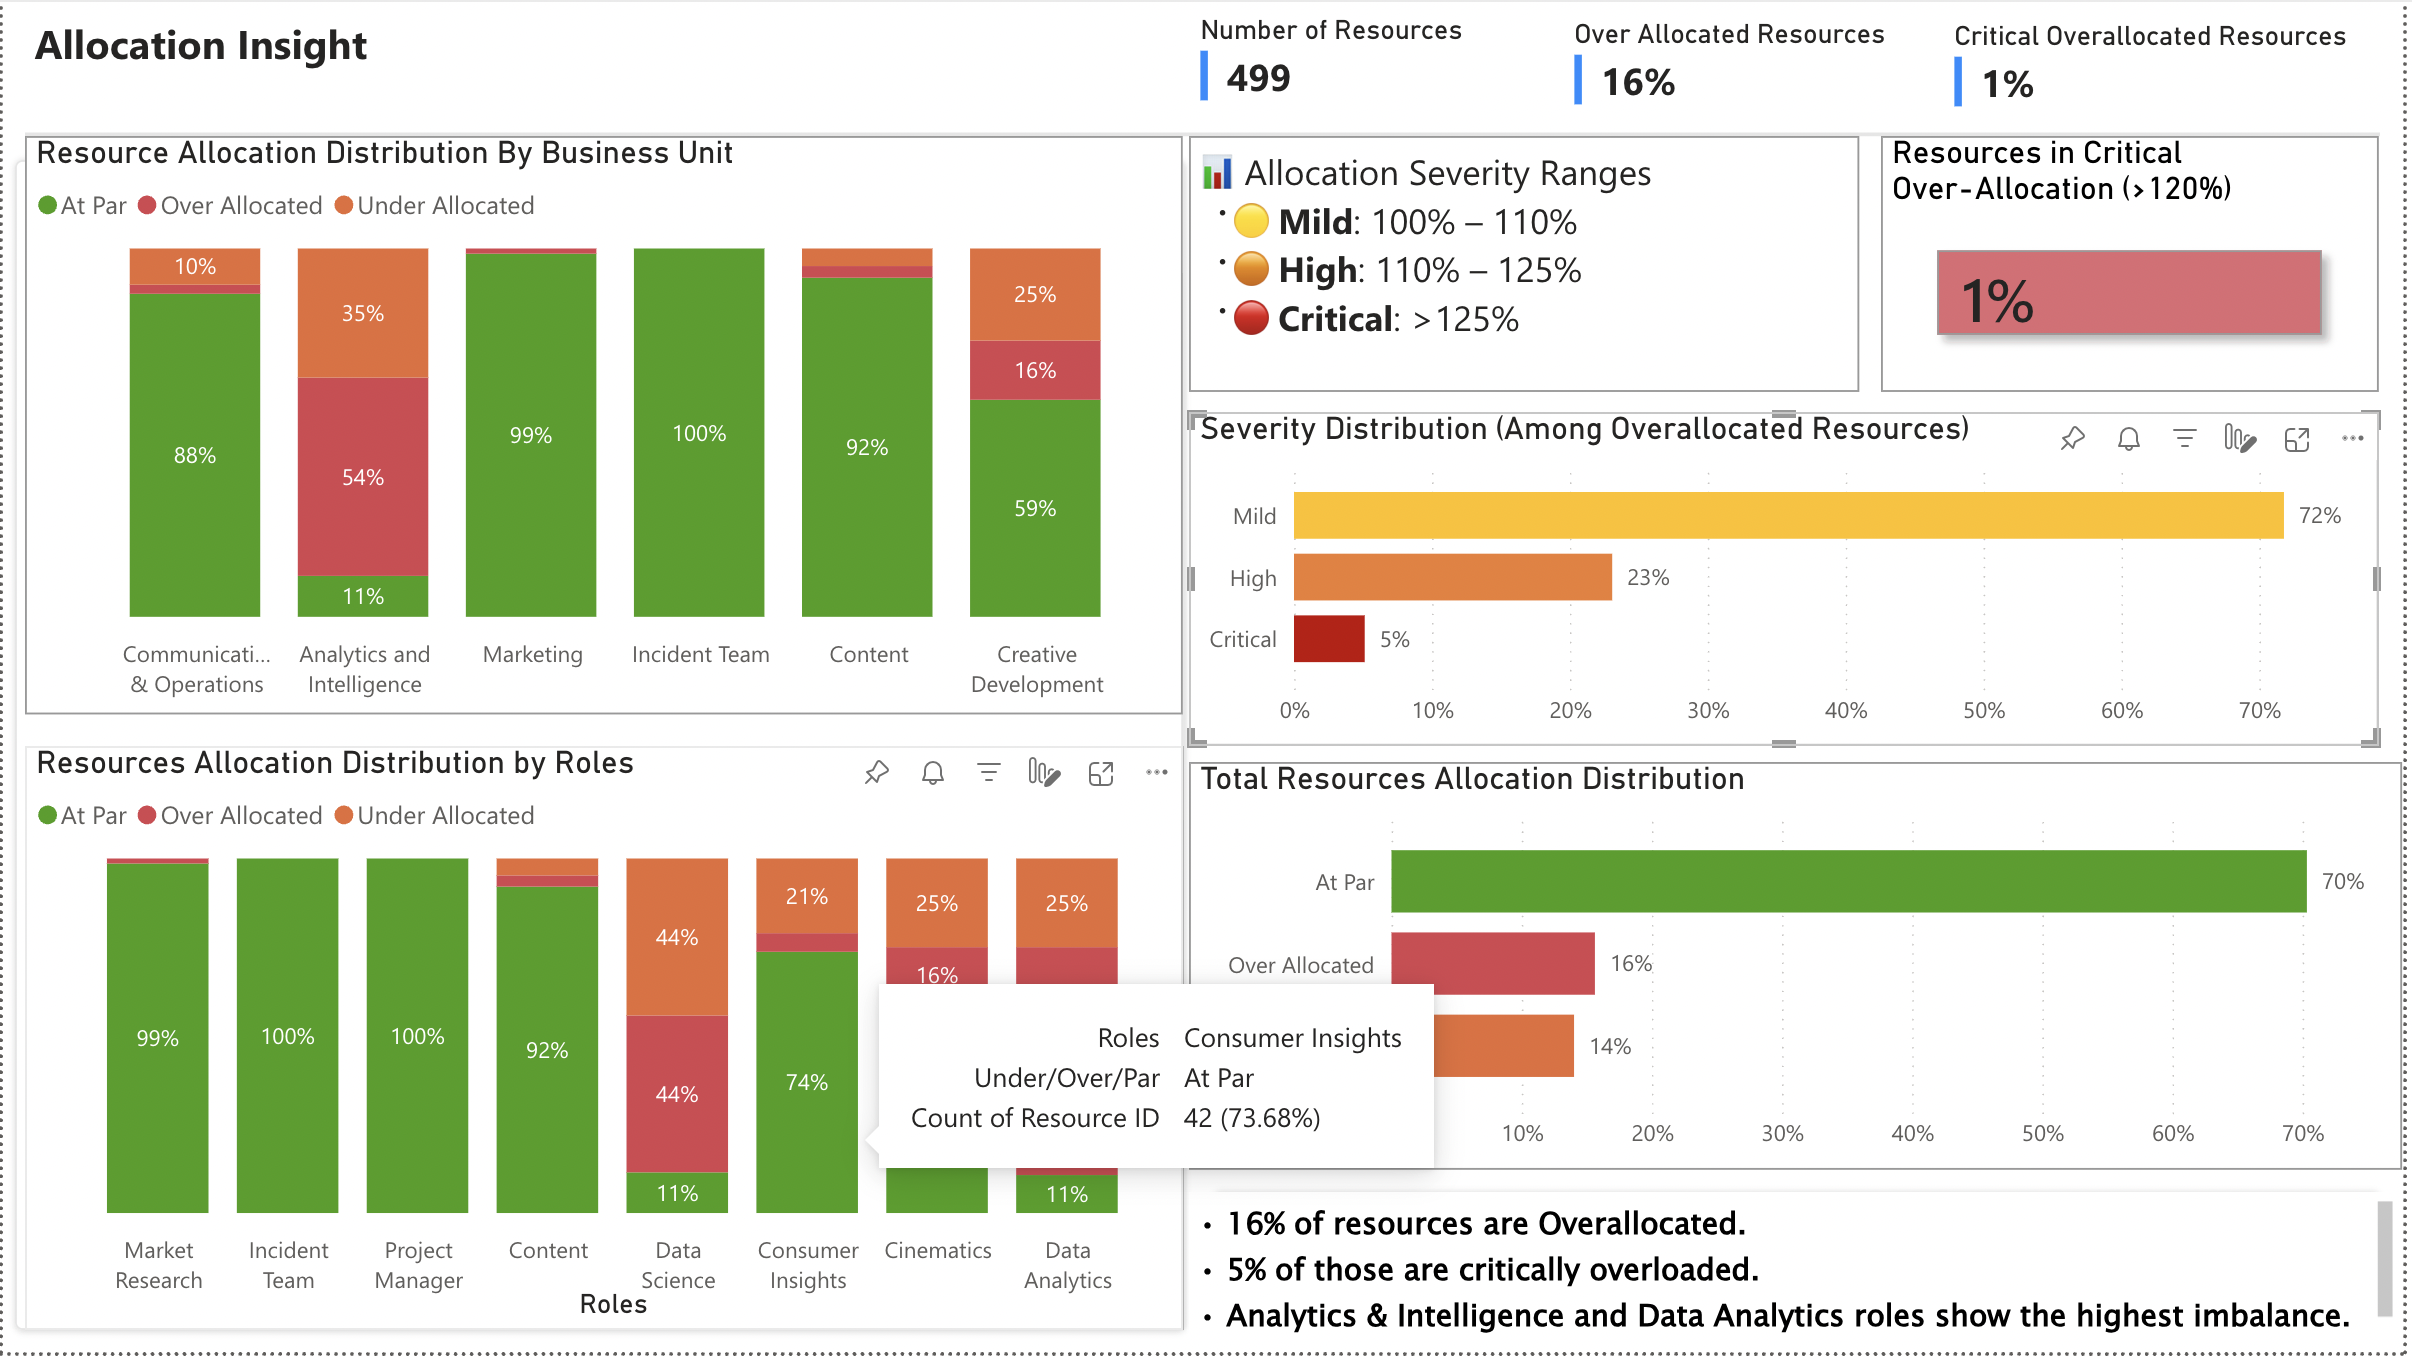

This screenshot's page, from the dashboard's own definition file:
{"tool":"powerbi","page":{"name":"Page 1","canvas":[1280,720],"ordinal":0},"visuals":[{"type":"shape","box":[12,58,1256,26],"z":0},{"type":"shape","box":[12,84,622,624],"z":1000},{"type":"shape","box":[645.7,451.2,597.4,256.8],"z":3000},{"type":"hundredPercentStackedColumnChart","title":"Number of Resources by Roles","fields":{"Category":["Table.Roles"],"Series":["Table.Under/Over/Par"],"Y":["CountNonNull(Table.Resource ID)"]},"box":[20.3,359.7,612.7,348.3],"z":5000},{"type":"clusteredBarChart","title":"Number of Resources Allocated Over / Under/ At Par","fields":{"Category":["Table.Under/Over/Par"],"Y":["Table.Allocation %"]},"box":[654.6,451.2,588.5,245.3],"z":6000},{"type":"clusteredBarChart","title":"Over-Allocation Severity Distribution","fields":{"Category":["Table.Severity"],"Y":["Table.Severity %"]},"box":[640.6,218.6,602.5,222.4],"z":7000},{"type":"hundredPercentStackedColumnChart","title":"Number of Resource By Business Unit","fields":{"Category":["Table.BU"],"Series":["Table.Under/Over/Par"],"Y":["CountNonNull(Table.Resource ID)"]},"box":[20.3,96.6,601.2,242.8],"z":9000},{"type":"multiRowCard","fields":{"Values":["Sum(Table.Sports-All)"]},"box":[1069,12,199,50],"z":10000},{"type":"multiRowCard","fields":{"Values":["CountNonNull(Table.Resource ID)"]},"box":[858,12,199,50],"z":11000},{"type":"textbox","box":[12,33,306,32],"z":12000},{"type":"textbox","box":[12,2,306,39],"z":13000},{"type":"textbox","box":[640.6,83.9,326.7,124.6],"z":13001},{"type":"cardVisual","box":[100,100,300,300],"z":13002},{"type":"kpi","fields":{"Indicator":["Table.Critical %"]},"box":[1002.9,83.9,190.7,124.6],"z":13003}]}

Visuals, with their boxes in screenshot pixels (x1, y1, x2, y2), scaled from the page's 1280x720 canvas onto the 2412x1360 screenshot:
shape: [left=23, top=110, right=2389, bottom=159]
shape: [left=23, top=159, right=1195, bottom=1337]
shape: [left=1217, top=852, right=2342, bottom=1337]
"Number of Resources by Roles" hundredPercentStackedColumnChart: [left=38, top=679, right=1193, bottom=1337]
"Number of Resources Allocated Over / Under/ At Par" clusteredBarChart: [left=1234, top=852, right=2342, bottom=1316]
"Over-Allocation Severity Distribution" clusteredBarChart: [left=1207, top=413, right=2342, bottom=833]
"Number of Resource By Business Unit" hundredPercentStackedColumnChart: [left=38, top=182, right=1171, bottom=641]
multiRowCard - Sum(Table.Sports-All): [left=2014, top=23, right=2389, bottom=117]
multiRowCard - CountNonNull(Table.Resource ID): [left=1617, top=23, right=1992, bottom=117]
textbox: [left=23, top=62, right=599, bottom=123]
textbox: [left=23, top=4, right=599, bottom=77]
textbox: [left=1207, top=158, right=1823, bottom=394]
cardVisual: [left=188, top=189, right=754, bottom=756]
kpi - Table.Critical %: [left=1890, top=158, right=2249, bottom=394]
